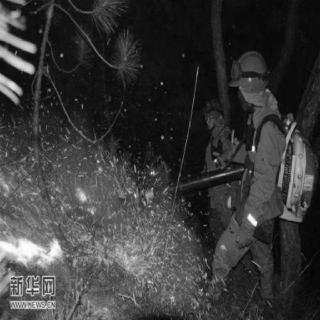Fire: (2, 134, 196, 310)
